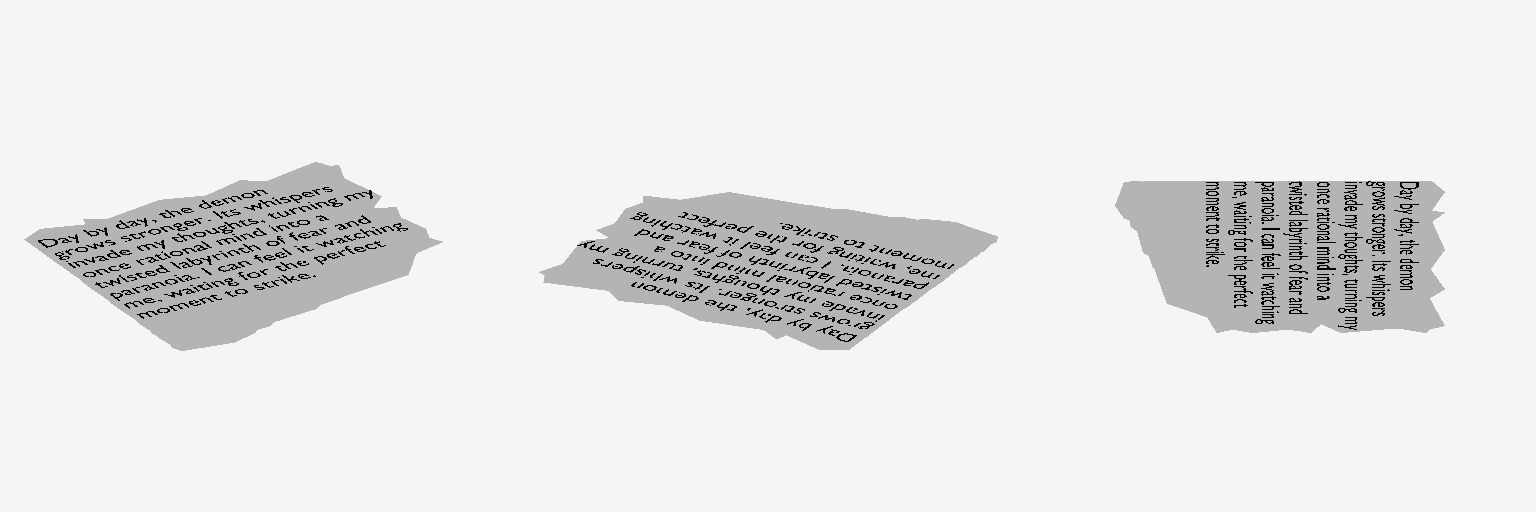
Rendered from Note_2_goed.obj.
3 views of the same model, side by side, from view 1: azimuth 30°, elevation 25°; view 2: azimuth 150°, elevation 25°; view 3: azimuth 270°, elevation 25° (orthographic).
Visible parts, largest first — view 1: Plane, Text.001; view 2: Plane, Text.001; view 3: Plane, Text.001.
Part boxes in pixels (x1,y1,x2,y2): Plane: (24,162,442,350); Text.001: (38,187,407,318); Plane: (539,192,997,349); Text.001: (577,212,953,341); Plane: (1115,181,1444,332); Text.001: (1206,181,1418,329).
Size of the model in its own units: 2 by 0.01 by 1.83.